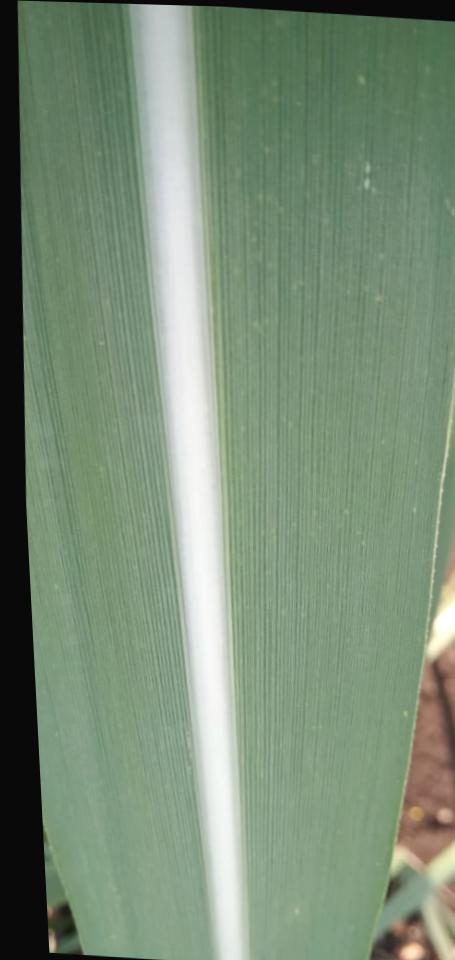Healthy: (192, 6, 455, 960), (17, 0, 210, 960)
